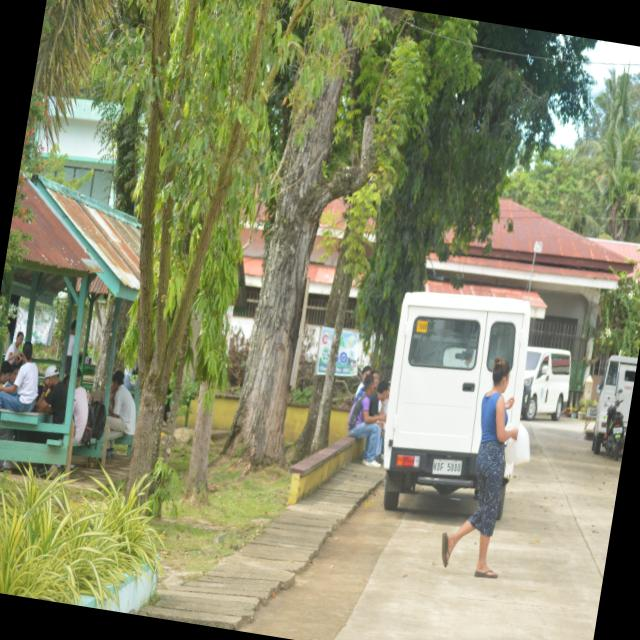person: (442, 357, 517, 578), (348, 374, 385, 467), (0, 342, 38, 413), (106, 371, 136, 457), (5, 332, 23, 366)
